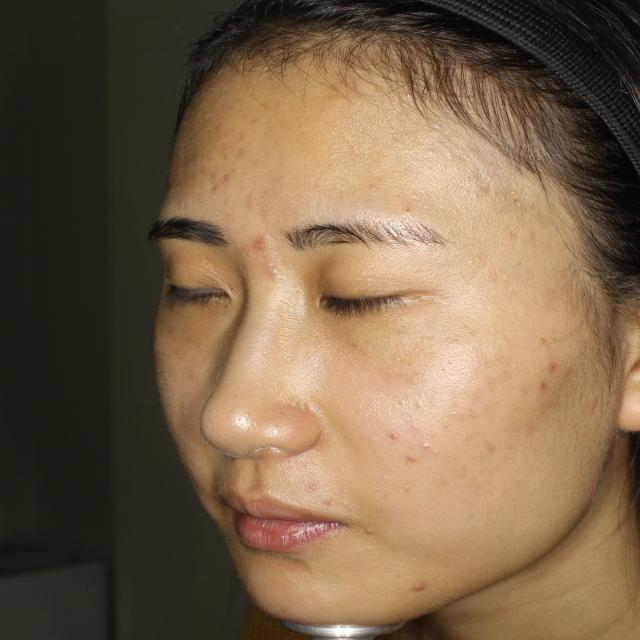acne: (388, 573, 445, 608), (535, 353, 568, 391), (251, 213, 281, 247)
